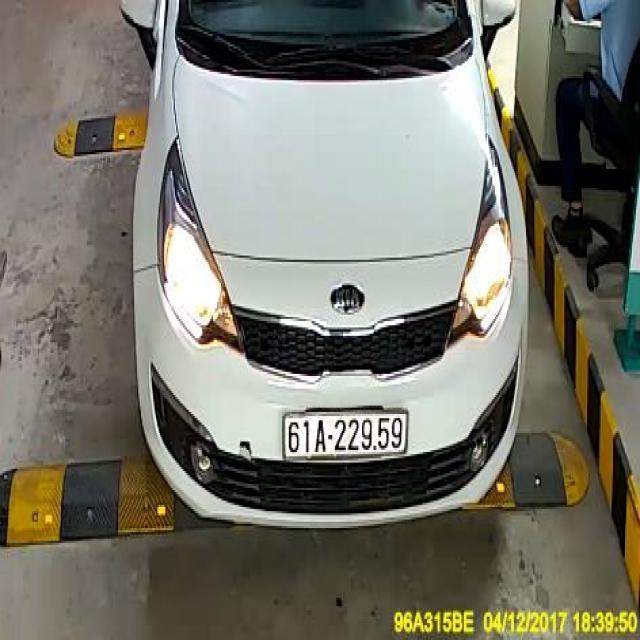car: (111, 0, 536, 533)
plate: (276, 410, 412, 461)
